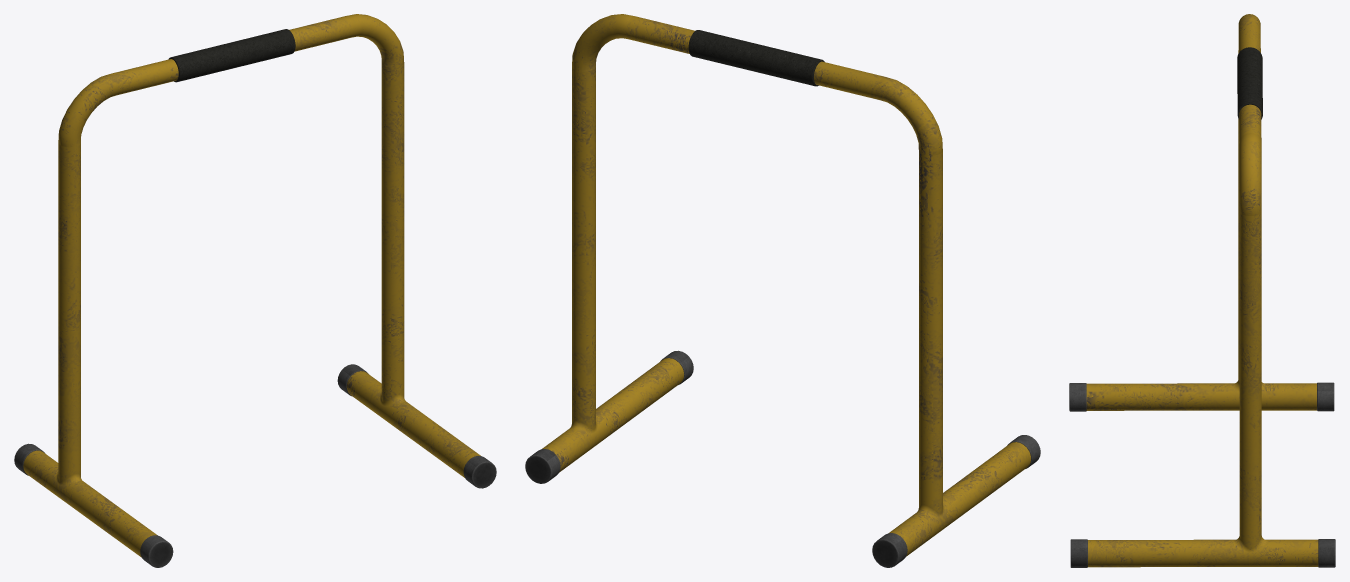
The model's file is prop_gym1.fbx.
The picture shows the model from 3 angles, left to right: view 1: azimuth 30°, elevation 25°; view 2: azimuth 150°, elevation 25°; view 3: azimuth 270°, elevation 25°; orthographic projection. The views are drawn at different scales.
Visible parts, largest first — view 1: gym_frame; view 2: gym_frame; view 3: gym_frame.
Boxes of the visible parts, x1,y1,x2,y2 form: gym_frame: [14, 14, 496, 567]; gym_frame: [525, 14, 1040, 567]; gym_frame: [1069, 14, 1335, 567].
Size of the model in its own units: 69.99 by 79.84 by 46.63.
